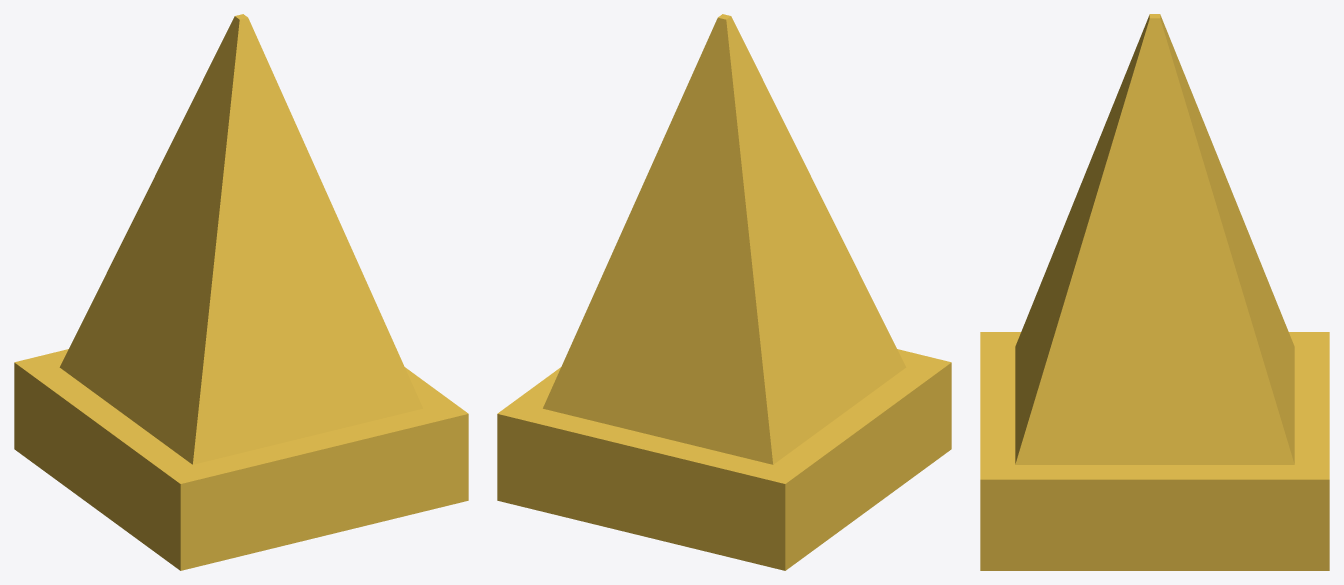
File: item-aurite.glb
3 views of the same model, side by side, from view 1: azimuth 30°, elevation 25°; view 2: azimuth 150°, elevation 25°; view 3: azimuth 270°, elevation 25° (orthographic). The views are drawn at different scales.
Parts seen in each view (by area): view 1: item-aurite; view 2: item-aurite; view 3: item-aurite.
Part boxes in pixels (box(x1,y1,x2,y2)): item-aurite: box(14, 14, 468, 570); item-aurite: box(497, 14, 951, 570); item-aurite: box(980, 14, 1329, 570).
Size of the model in its own units: 0.1909 by 0.29 by 0.1909.
